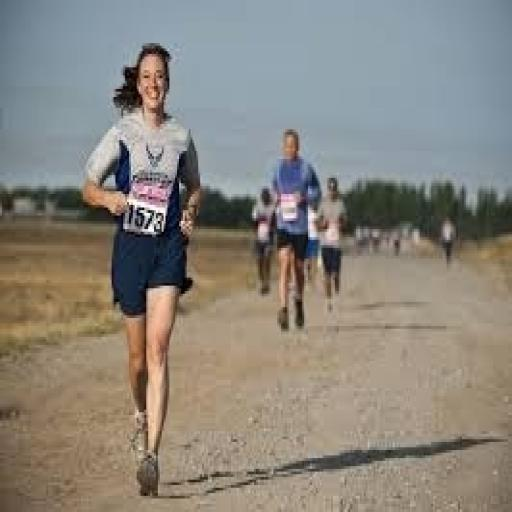running: (79, 40, 204, 498), (266, 127, 323, 334), (312, 172, 352, 316)
